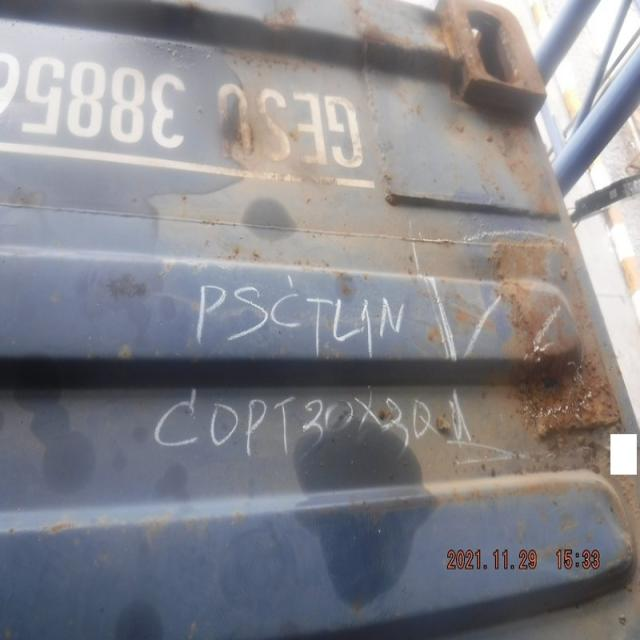hole: (524, 372, 601, 429)
